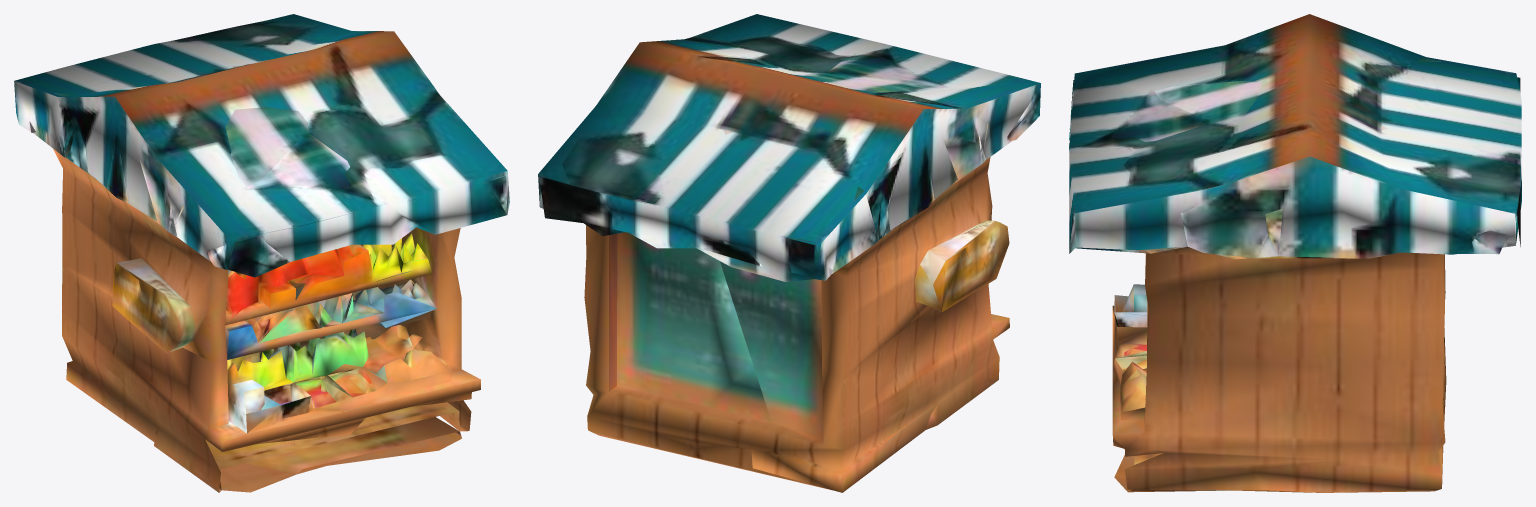
File: kiosk.glb
3 views of the same model, side by side, from view 1: azimuth 30°, elevation 25°; view 2: azimuth 150°, elevation 25°; view 3: azimuth 270°, elevation 25° (orthographic). The views are drawn at different scales.
Parts seen in each view (by area): view 1: kiosk; view 2: kiosk; view 3: kiosk.
Part boxes in pixels (x1,y1,x2,y2): kiosk: (14, 14, 509, 492); kiosk: (538, 14, 1040, 492); kiosk: (1069, 14, 1521, 492).
Bounding box in the file's own units: 3.06 × 3.4 × 4.
1 material, 1 textured.
